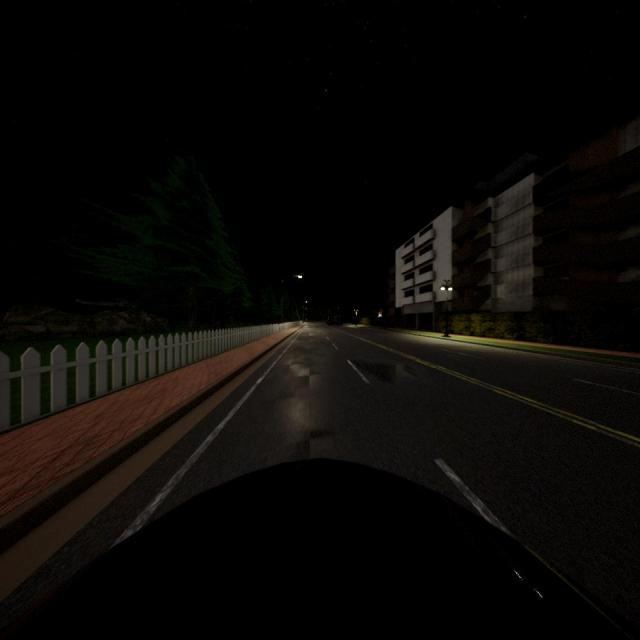Vehicle: (0, 462, 640, 640), (334, 319, 343, 326), (326, 320, 334, 326)
